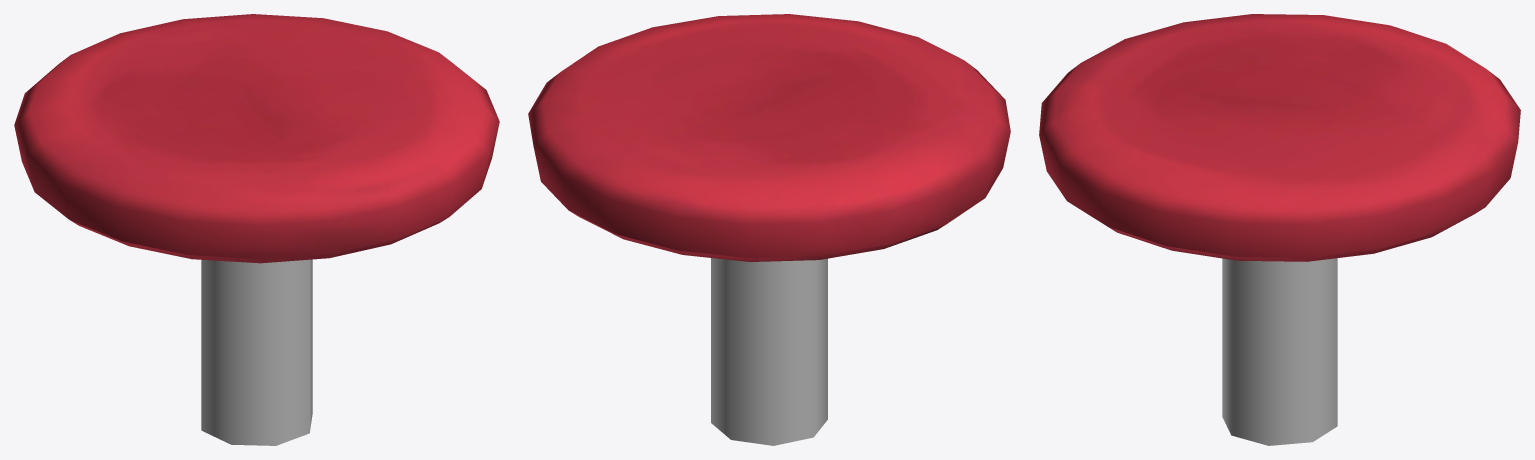
Rendered from ButtonTop.fbx.
3 renders of one model, left to right at view 1: azimuth 30°, elevation 25°; view 2: azimuth 150°, elevation 25°; view 3: azimuth 270°, elevation 25°, orthographic.
Visible parts, largest first — view 1: Button_Top_Red, stem; view 2: Button_Top_Red, stem; view 3: Button_Top_Red, stem.
Boxes of the visible parts, left/top/right/bottom form: Button_Top_Red: left=14, top=14, right=499, bottom=263; stem: left=201, top=259, right=312, bottom=445; Button_Top_Red: left=528, top=14, right=1010, bottom=261; stem: left=711, top=258, right=827, bottom=445; Button_Top_Red: left=1039, top=14, right=1520, bottom=261; stem: left=1222, top=258, right=1337, bottom=445.
Bounding box in the file's own units: 0.0798 × 0.0587 × 0.0798.
